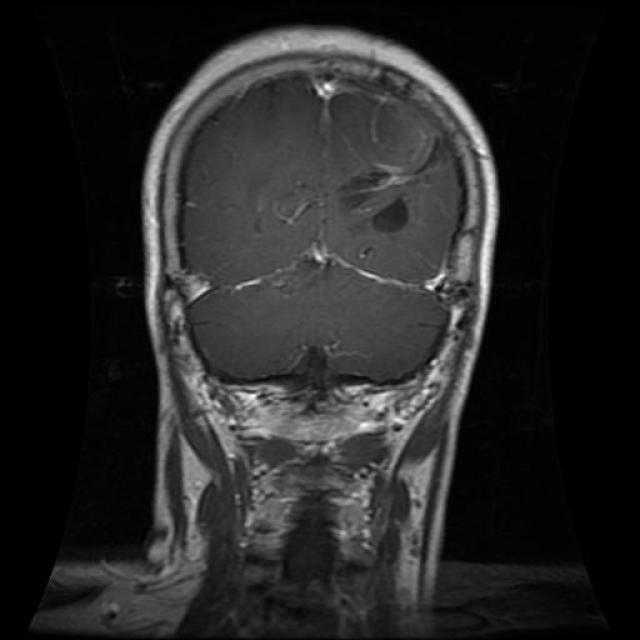glioma: (341, 142, 435, 246)
